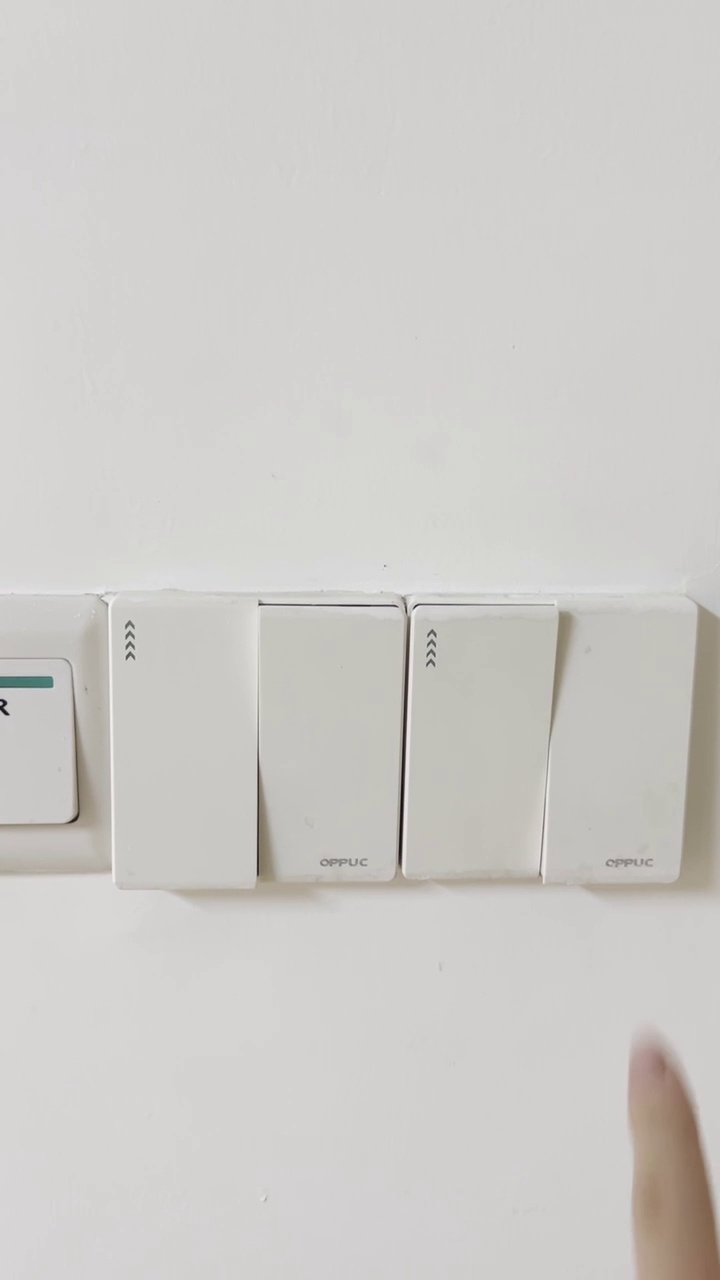button1: (108, 597, 257, 885), (265, 611, 398, 883), (419, 608, 542, 884), (561, 611, 684, 877)
